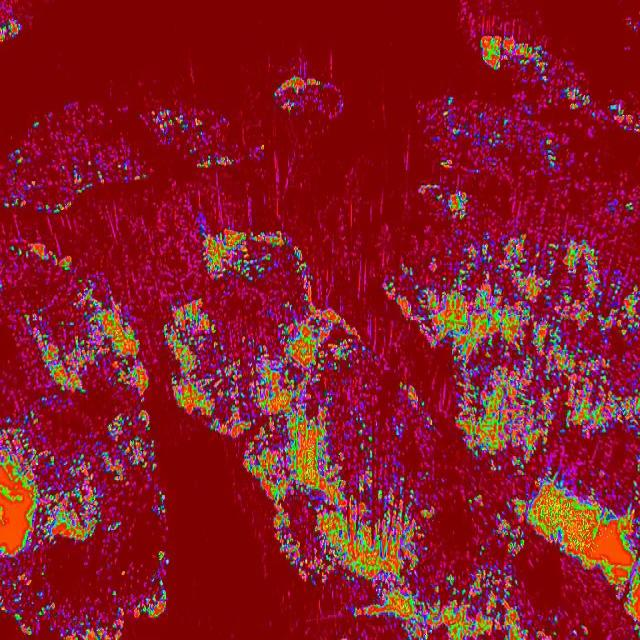fire: (166, 207, 640, 437), (0, 105, 167, 640), (424, 72, 640, 207), (271, 506, 638, 583), (238, 438, 640, 507), (322, 582, 640, 640), (145, 94, 271, 177), (454, 5, 562, 70), (272, 67, 351, 128), (0, 0, 20, 45)
